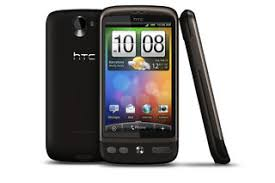htc: (41, 2, 178, 164), (97, 3, 180, 166), (42, 7, 100, 165)
